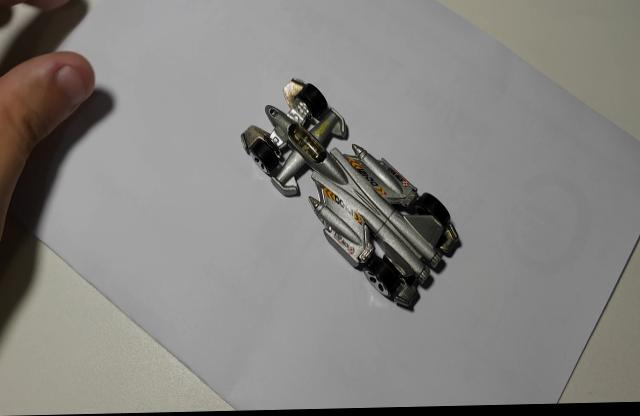05_DC121: (241, 81, 463, 315)
